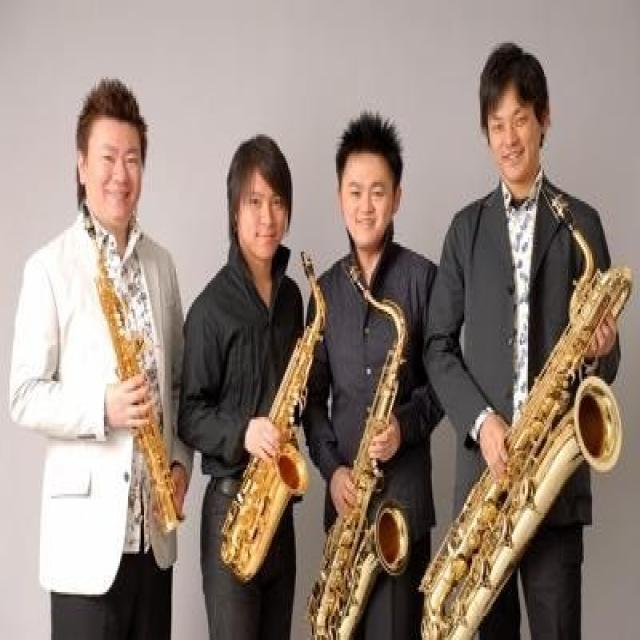saxophone: (416, 168, 635, 638), (309, 250, 416, 638), (217, 251, 330, 583)
